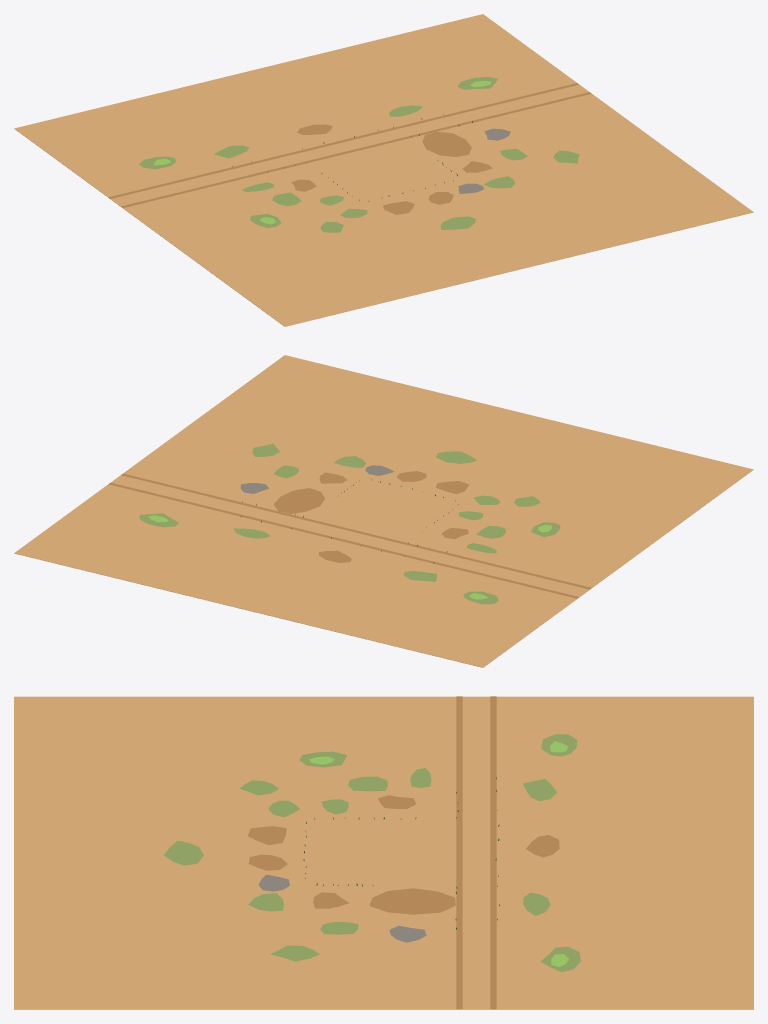
Rendered from ground.glb.
3 renders of one model, top to bottom at view 1: azimuth 30°, elevation 25°; view 2: azimuth 150°, elevation 25°; view 3: azimuth 270°, elevation 25°, orthographic. The views are drawn at different scales.
Visible parts, largest first — view 1: ground; view 2: ground; view 3: ground.
Part boxes in pixels (left/top/right/bottom): ground: left=14, top=14, right=753, bottom=326; ground: left=14, top=355, right=753, bottom=667; ground: left=14, top=696, right=753, bottom=1009.
Size of the model in its own units: 100 by 0.5219 by 100.
Materials: 1 (1 with a texture image).
